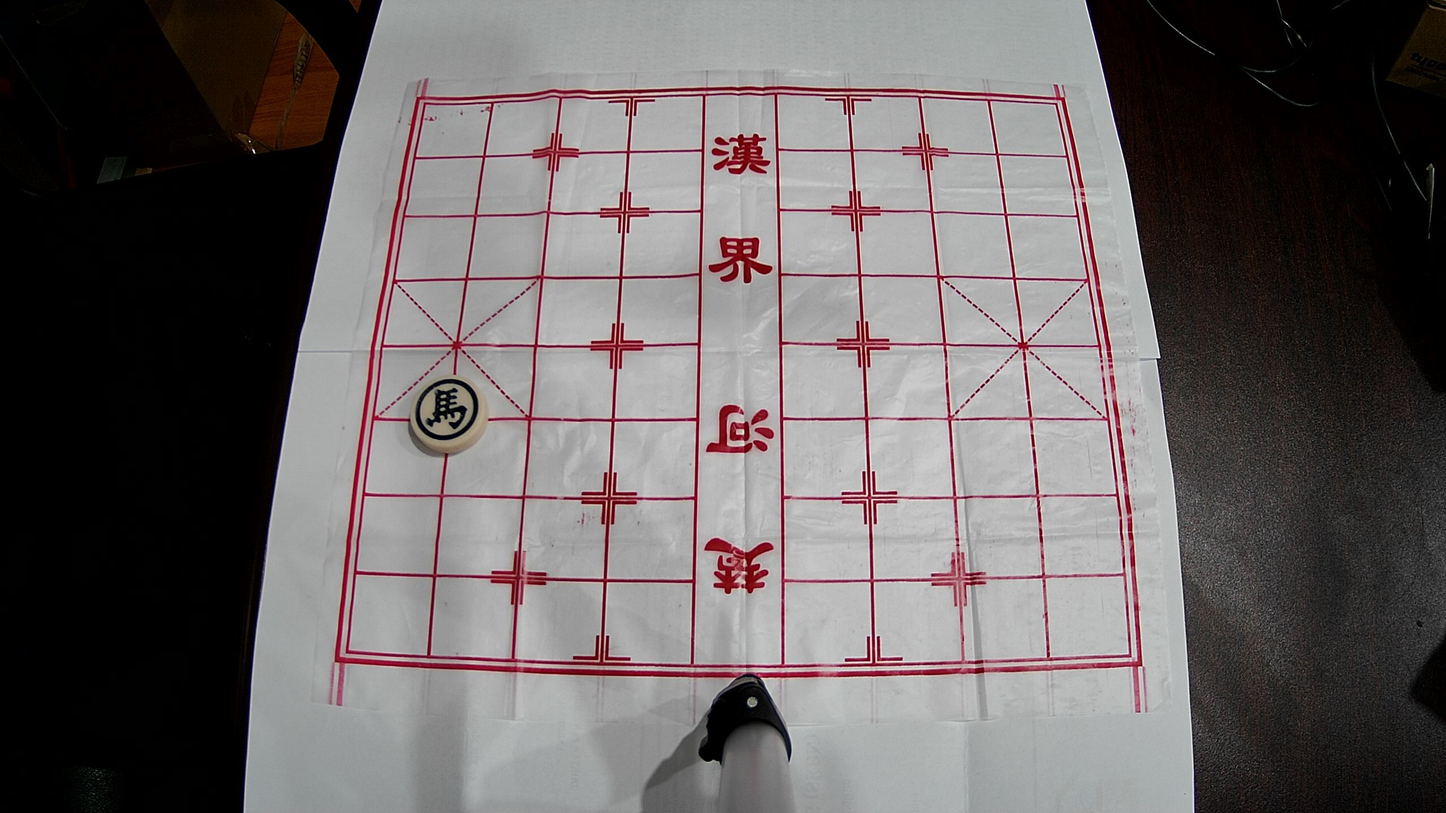Black-Horse: (410, 375, 489, 453)
